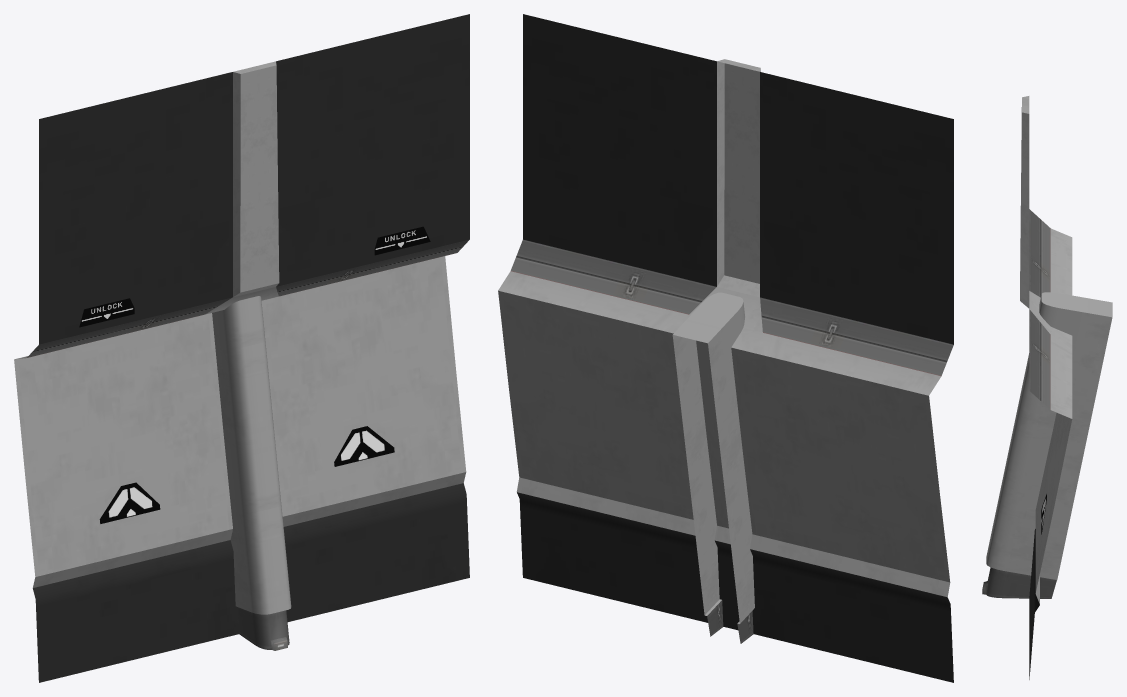
File: sf_wall_astra_tall.glb
3 renders of one model, left to right at view 1: azimuth 30°, elevation 25°; view 2: azimuth 150°, elevation 25°; view 3: azimuth 270°, elevation 25°, orthographic. The views are drawn at different scales.
Visible parts, largest first — view 1: WallAstra_Straight, TopAstra_Straight; view 2: WallAstra_Straight, TopAstra_Straight; view 3: WallAstra_Straight, TopAstra_Straight.
Boxes of the visible parts, x1,y1,x2,y2 form: WallAstra_Straight: [14, 239, 469, 682]; TopAstra_Straight: [39, 14, 469, 344]; WallAstra_Straight: [498, 239, 953, 682]; TopAstra_Straight: [523, 14, 953, 344]; WallAstra_Straight: [982, 209, 1112, 679]; TopAstra_Straight: [1020, 96, 1029, 308].
Bounding box in the file's own units: 4 × 5.01 × 1.21.
Materials: 5 (5 with a texture image).
